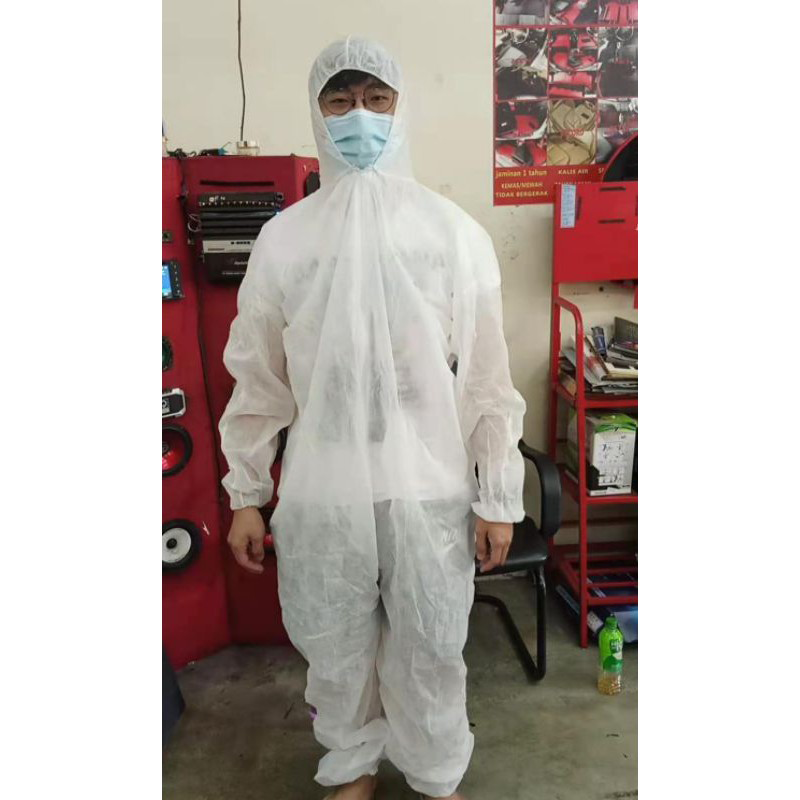Coverall: (220, 35, 526, 761)
with_mask: (312, 85, 403, 175)
